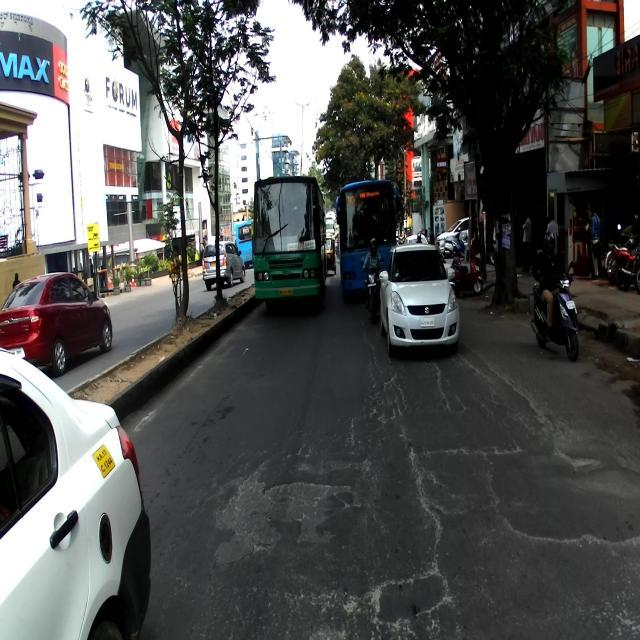Pothole: (378, 375, 640, 640), (214, 438, 372, 627)
